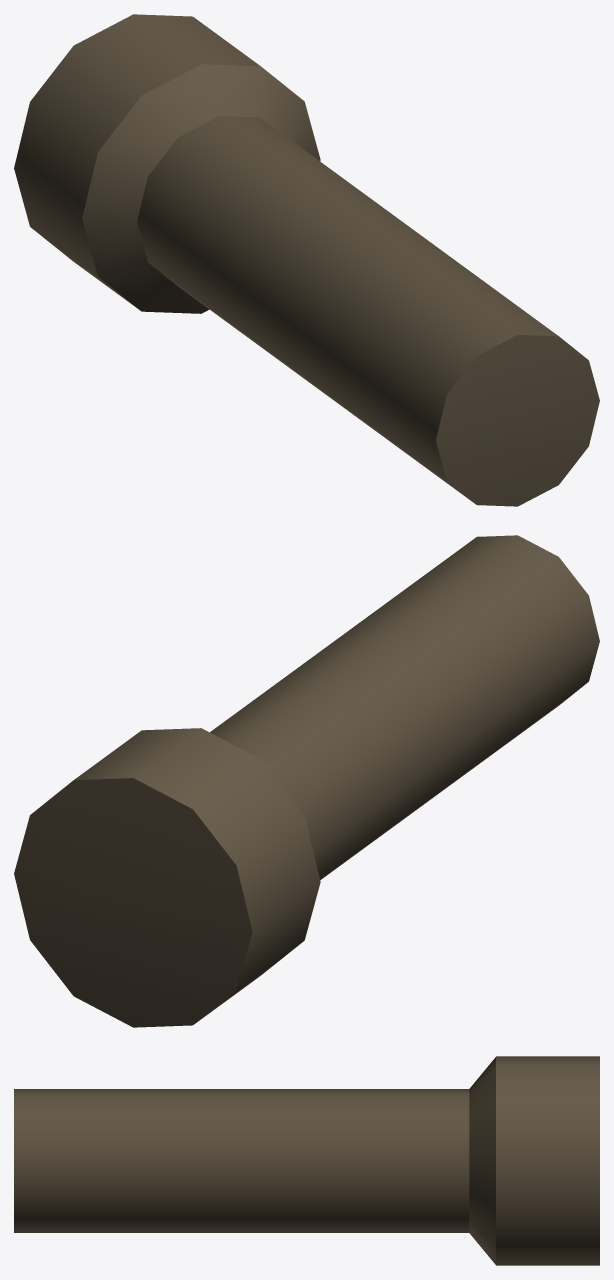
File: Pipe_A.fbx
3 views of the same model, one above another, from view 1: azimuth 30°, elevation 25°; view 2: azimuth 150°, elevation 25°; view 3: azimuth 270°, elevation 25° (orthographic). The views are drawn at different scales.
Parts seen in each view (by area): view 1: Pipe_A; view 2: Pipe_A; view 3: Pipe_A.
Boxes of the visible parts, bbox=[...] form: Pipe_A: bbox=[14, 14, 599, 506]; Pipe_A: bbox=[14, 535, 599, 1027]; Pipe_A: bbox=[14, 1056, 599, 1265].
Size of the model in its own units: 85.12 by 85.12 by 238.
